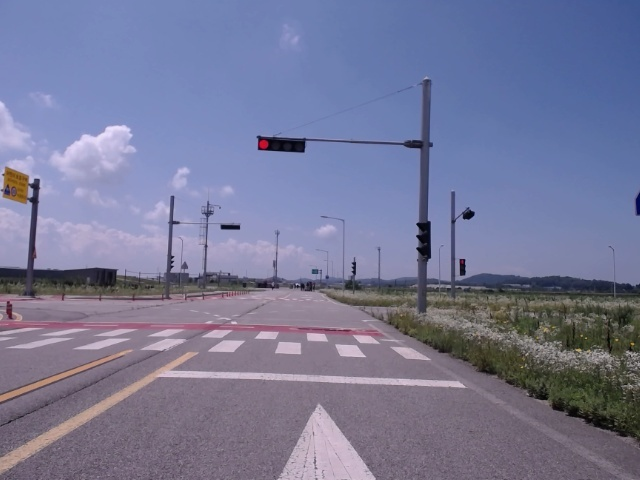red_4: (258, 138, 305, 153)
